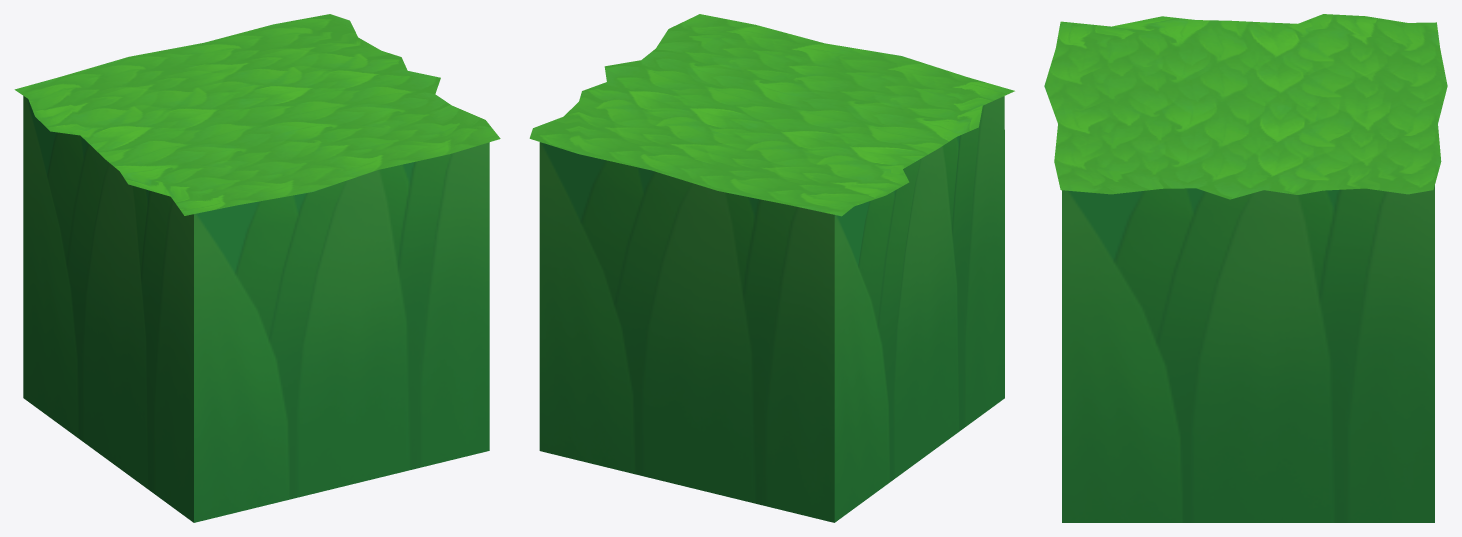
Rendered from Grass001.FBX.
The picture shows the model from 3 angles, left to right: view 1: azimuth 30°, elevation 25°; view 2: azimuth 150°, elevation 25°; view 3: azimuth 270°, elevation 25°; orthographic projection. The views are drawn at different scales.
Visible parts, largest first — view 1: Grass001; view 2: Grass001; view 3: Grass001.
Boxes of the visible parts, x1,y1,x2,y2 form: Grass001: (14, 14, 500, 522); Grass001: (529, 14, 1014, 522); Grass001: (1044, 14, 1447, 522).
Bounding box in the file's own units: 118 × 100 × 108.
